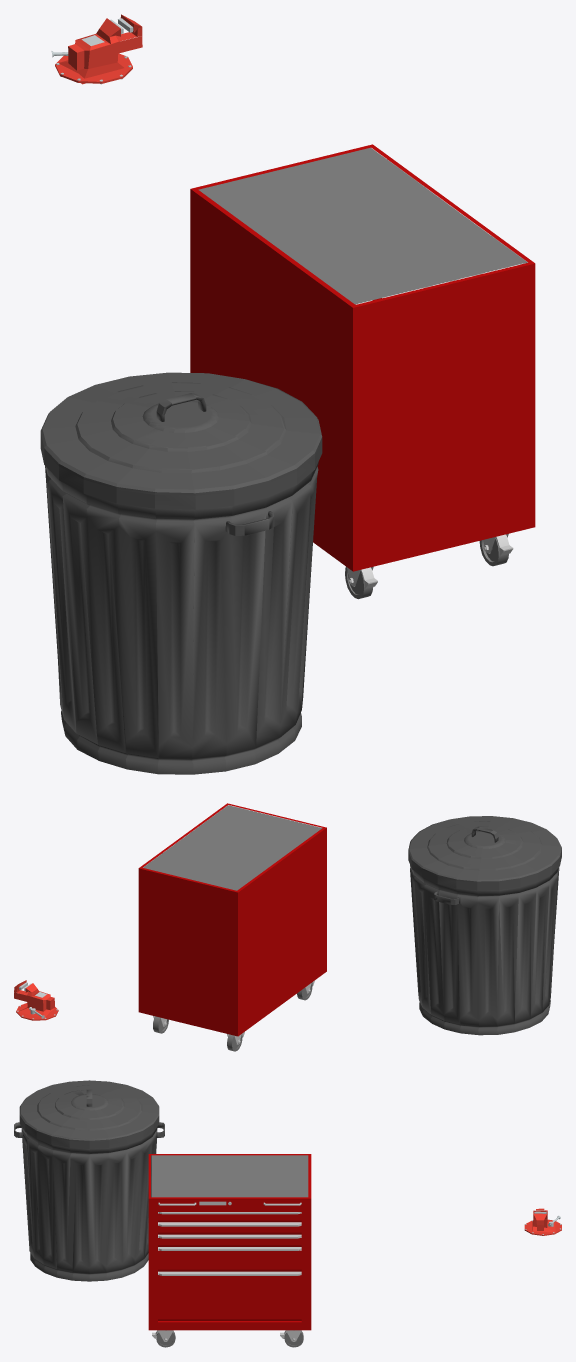
Rendered from compressed_Decors_5.glb.
3 renders of one model, top to bottom at view 1: azimuth 30°, elevation 25°; view 2: azimuth 150°, elevation 25°; view 3: azimuth 270°, elevation 25°, orthographic. The views are drawn at different scales.
Parts seen in each view (by area): view 1: TooldBox, Garbage_Bin, Vice Clamp; view 2: TooldBox, Garbage_Bin, Vice Clamp; view 3: TooldBox, Garbage_Bin, Vice Clamp.
Part boxes in pixels (left/top/right/bottom): TooldBox: left=190, top=144, right=535, bottom=599; Garbage_Bin: left=40, top=372, right=322, bottom=774; Vice Clamp: left=51, top=14, right=142, bottom=84; TooldBox: left=138, top=803, right=326, bottom=1051; Garbage_Bin: left=408, top=816, right=561, bottom=1035; Vice Clamp: left=14, top=980, right=58, bottom=1020; TooldBox: left=148, top=1154, right=311, bottom=1347; Garbage_Bin: left=14, top=1080, right=164, bottom=1281; Vice Clamp: left=524, top=1208, right=561, bottom=1235.
Size of the model in its own units: 3.37 by 1.94 by 5.9.
